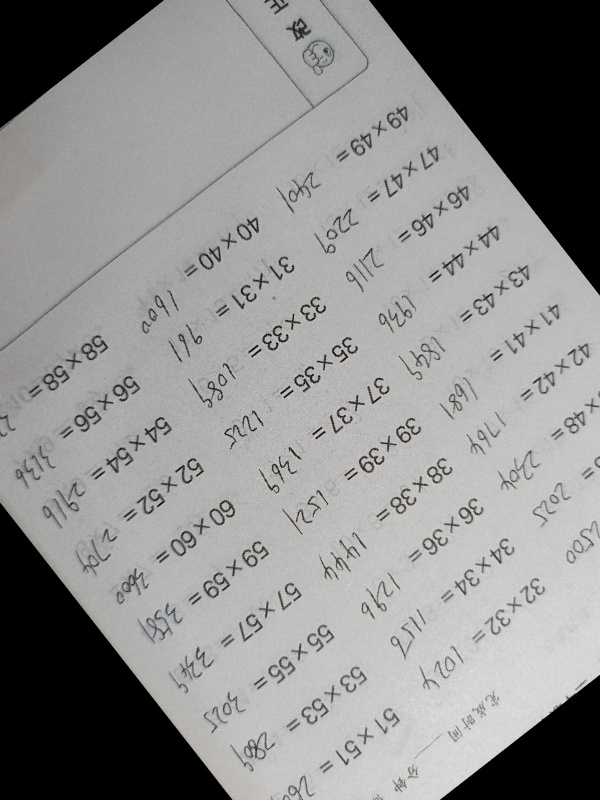equation: (187, 0, 368, 118), (425, 304, 571, 420), (393, 262, 537, 377), (122, 214, 266, 328), (184, 293, 328, 407), (218, 335, 362, 449), (96, 497, 240, 611), (282, 415, 426, 529), (454, 340, 598, 454), (345, 497, 489, 611), (194, 623, 338, 737), (155, 253, 298, 367), (301, 142, 444, 256), (31, 415, 174, 529), (363, 221, 506, 335), (63, 456, 206, 570), (249, 375, 392, 489), (128, 539, 271, 653), (314, 457, 457, 571), (162, 581, 305, 695), (228, 665, 371, 779), (407, 578, 550, 692), (0, 374, 142, 488), (272, 102, 415, 215), (332, 182, 475, 295), (377, 538, 520, 651), (260, 706, 403, 800), (484, 379, 600, 493), (0, 334, 106, 449), (514, 418, 600, 532), (543, 457, 600, 571)
